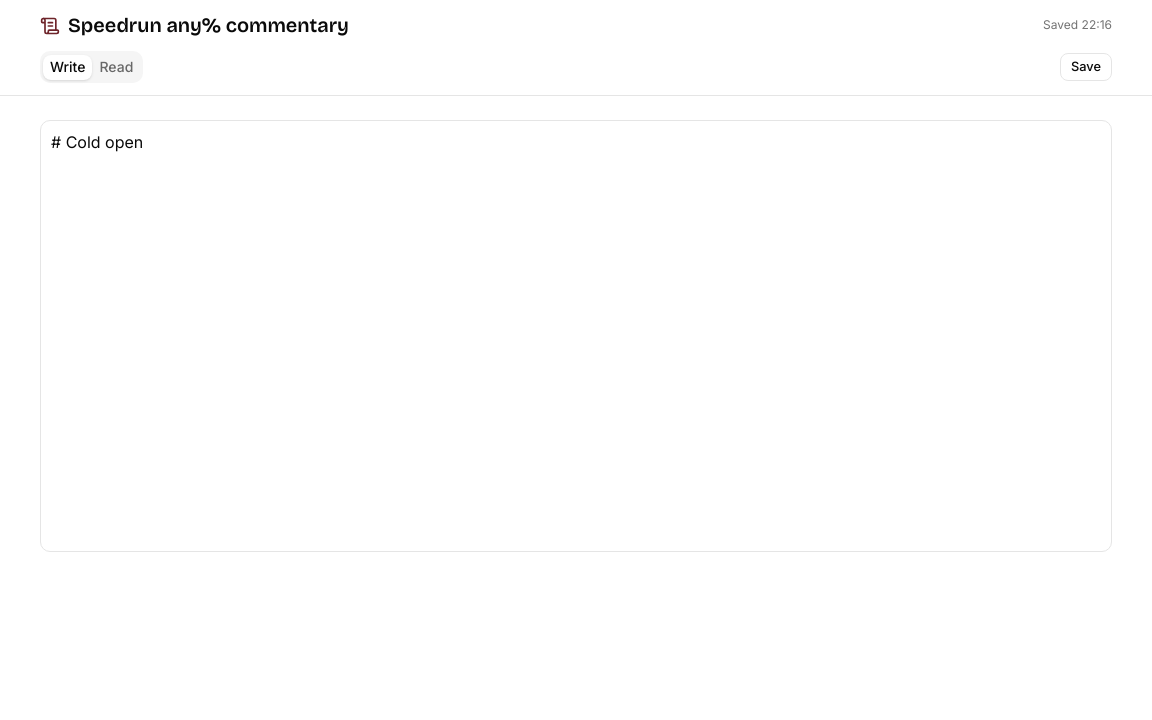
Test: ScriptEditor › switching to Read renders the rendered Markdown, distinct from Write
Click the tab "Read": (116, 67) [92,54,140,80]
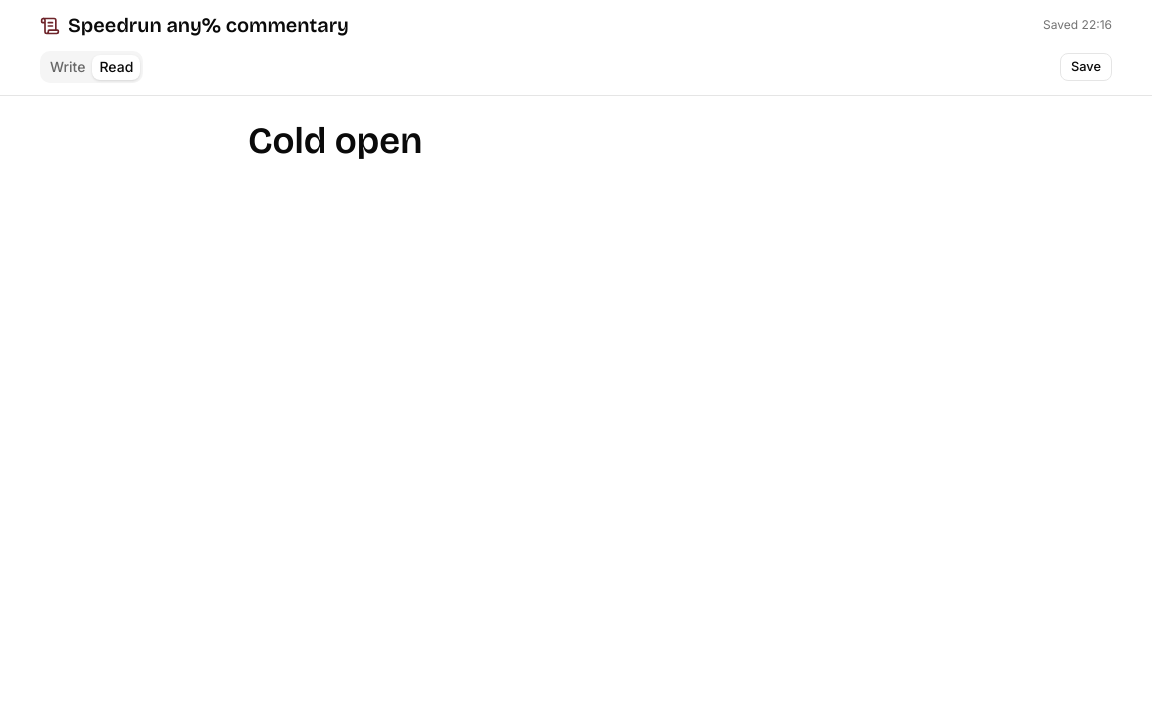
Result: the heading "Cold open" is shown at [248,119,422,163]
Result: the text box labelled "Script" is gone
